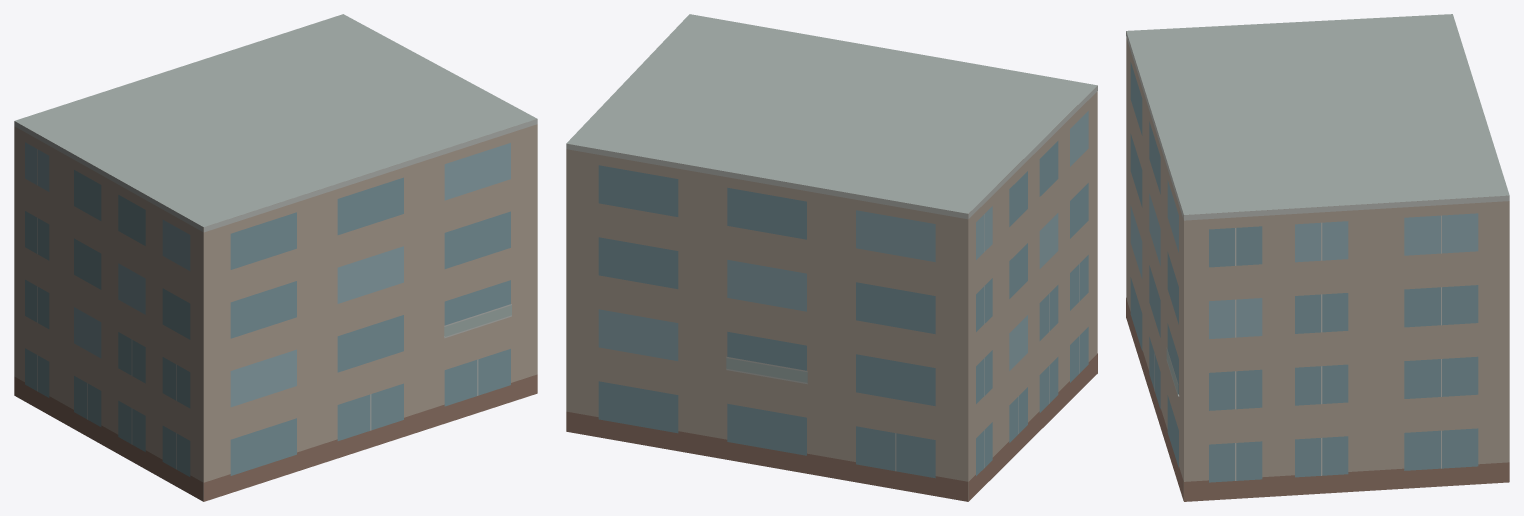
Rendered from survey-upis-32741410.glb.
3 views of the same model, side by side, from view 1: azimuth 30°, elevation 25°; view 2: azimuth 150°, elevation 25°; view 3: azimuth 270°, elevation 25° (orthographic). The views are drawn at different scales.
Parts seen in each view (by area): view 1: survey-upis-32741410.tmp; view 2: survey-upis-32741410.tmp; view 3: survey-upis-32741410.tmp.
Boxes of the visible parts, x1,y1,x2,y2 form: survey-upis-32741410.tmp: [14, 14, 537, 501]; survey-upis-32741410.tmp: [566, 14, 1097, 501]; survey-upis-32741410.tmp: [1126, 14, 1509, 501].
Bounding box in the file's own units: 19.11 × 12.7 × 15.4.
